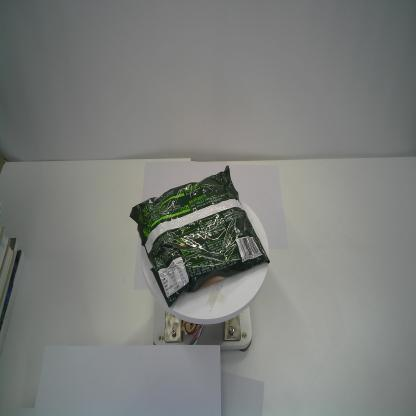Instant Noodles: (129, 163, 272, 309)
